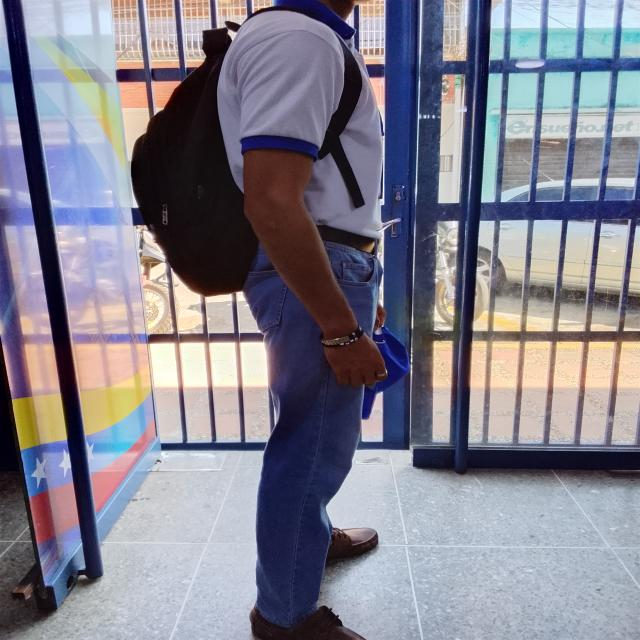uniforme_superior: (216, 0, 383, 240)
